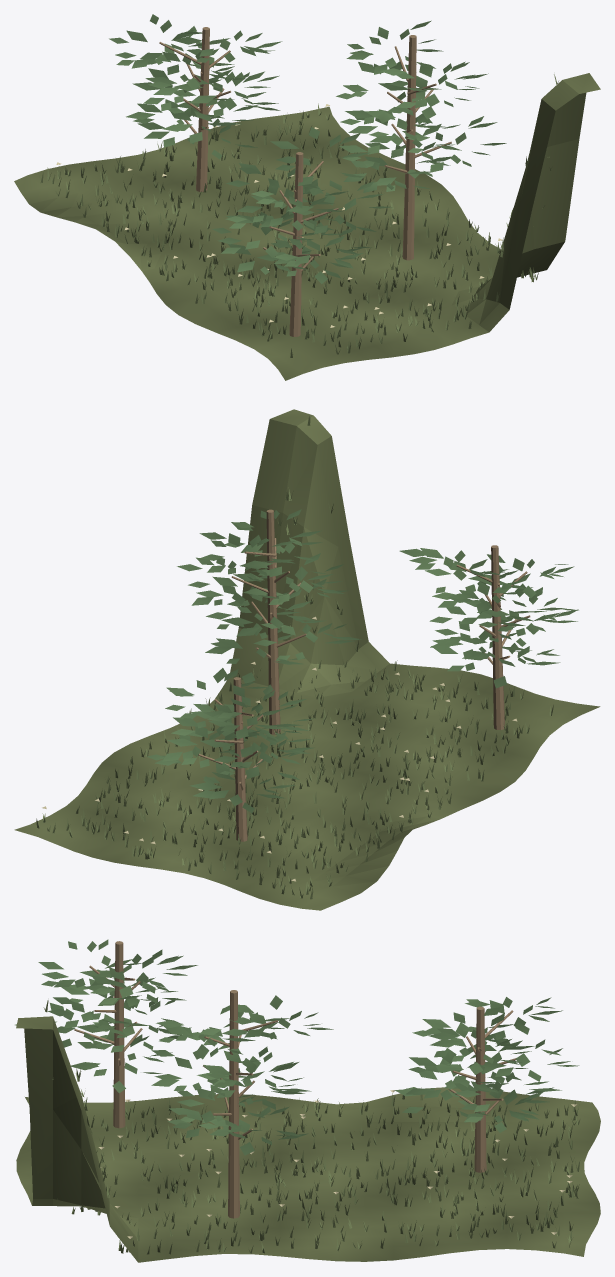
File: retreat_v2_garden.glb
The picture shows the model from 3 angles, top to bottom: view 1: azimuth 30°, elevation 25°; view 2: azimuth 150°, elevation 25°; view 3: azimuth 270°, elevation 25°; orthographic projection. The views are drawn at different scales.
Parts seen in each view (by area): view 1: V2_Garden_Living_Turf, V2_Garden_Grass_Blades, V2_Garden_Tree_Leaves_2, V2_Garden_Tree_Leaves_1, V2_Garden_Tree_Leaves_0, V2_Garden_Trunk_1, V2_Garden_Trunk_0, V2_Garden_Trunk_2; view 2: V2_Garden_Living_Turf, V2_Garden_Grass_Blades, V2_Garden_Tree_Leaves_1, V2_Garden_Tree_Leaves_2, V2_Garden_Tree_Leaves_0, V2_Garden_Trunk_1, V2_Garden_Trunk_0, V2_Garden_Trunk_2; view 3: V2_Garden_Living_Turf, V2_Garden_Grass_Blades, V2_Garden_Tree_Leaves_2, V2_Garden_Tree_Leaves_1, V2_Garden_Tree_Leaves_0, V2_Garden_Trunk_1, V2_Garden_Trunk_0, V2_Garden_Trunk_2.
Boxes of the visible parts, box(x1,y1,x2,y2) form: V2_Garden_Living_Turf: box(14, 73, 600, 380); V2_Garden_Grass_Blades: box(39, 74, 558, 357); V2_Garden_Tree_Leaves_2: box(109, 14, 282, 159); V2_Garden_Tree_Leaves_1: box(336, 20, 506, 192); V2_Garden_Tree_Leaves_0: box(212, 127, 392, 283); V2_Garden_Trunk_1: box(402, 35, 416, 260); V2_Garden_Trunk_0: box(289, 152, 303, 336); V2_Garden_Trunk_2: box(196, 27, 209, 191); V2_Garden_Living_Turf: box(14, 409, 600, 910); V2_Garden_Grass_Blades: box(36, 416, 553, 899); V2_Garden_Tree_Leaves_1: box(177, 509, 361, 683); V2_Garden_Tree_Leaves_2: box(147, 668, 315, 812); V2_Garden_Tree_Leaves_0: box(399, 548, 578, 688); V2_Garden_Trunk_1: box(266, 509, 280, 734); V2_Garden_Trunk_0: box(491, 545, 504, 730); V2_Garden_Trunk_2: box(233, 677, 247, 841); V2_Garden_Living_Turf: box(16, 1016, 600, 1262); V2_Garden_Grass_Blades: box(43, 1000, 580, 1254); V2_Garden_Tree_Leaves_2: box(394, 997, 579, 1132); V2_Garden_Tree_Leaves_1: box(151, 995, 333, 1155); V2_Garden_Tree_Leaves_0: box(15, 939, 197, 1093); V2_Garden_Trunk_1: box(228, 990, 239, 1218); V2_Garden_Trunk_0: box(113, 941, 125, 1128); V2_Garden_Trunk_2: box(474, 1006, 486, 1172).
Size of the model in its own units: 7.04 by 4.82 by 10.23.
